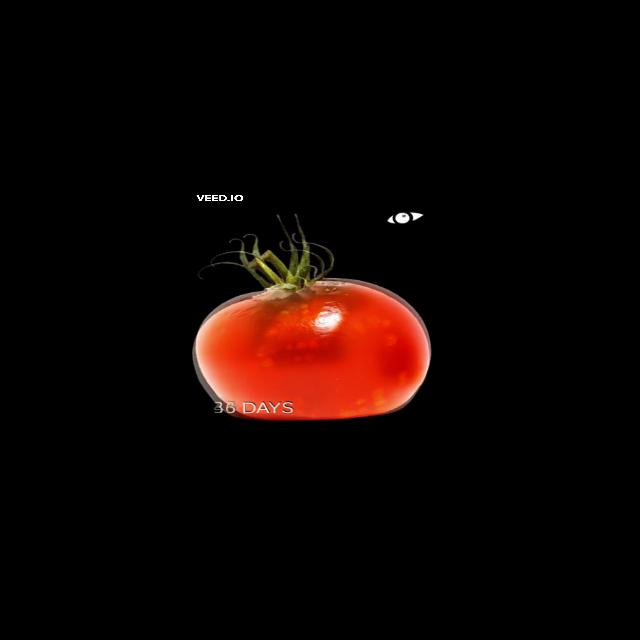tomato: (193, 259, 434, 426)
